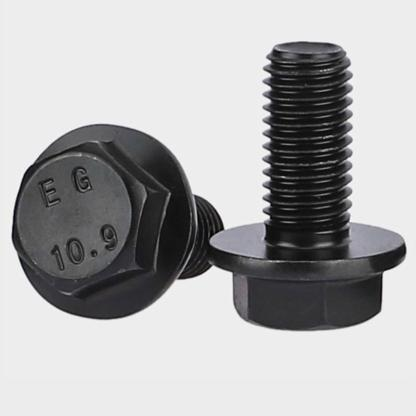FOD: (208, 40, 406, 335), (9, 122, 228, 322)
